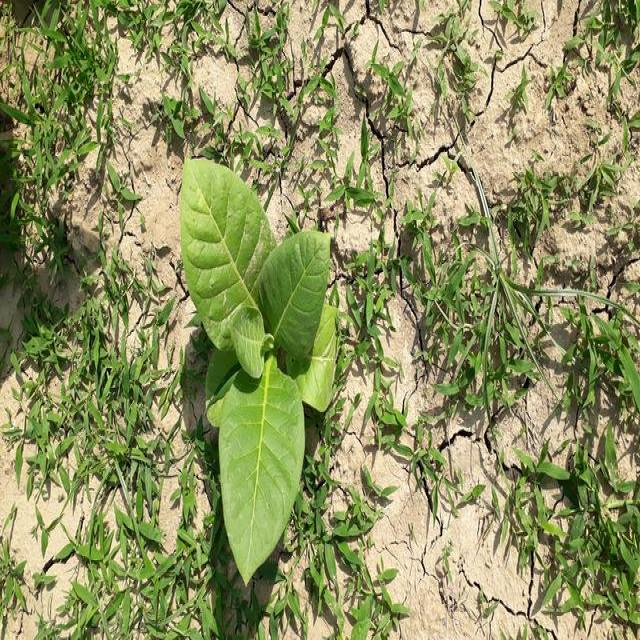crop: (173, 153, 335, 576)
